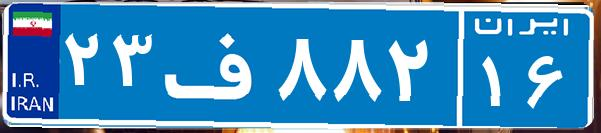1: (475, 38, 525, 113)
2: (385, 28, 445, 110), (57, 26, 110, 107)
3: (110, 28, 158, 105)
6: (525, 38, 570, 115)
8: (273, 28, 330, 110), (330, 28, 385, 110)
ف: (158, 15, 273, 115)
